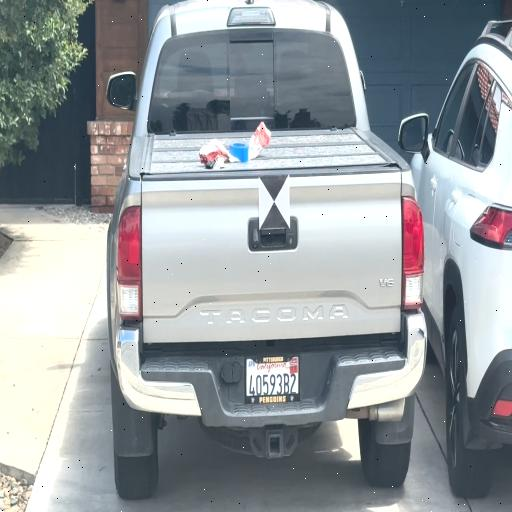target: (259, 174, 290, 228)
